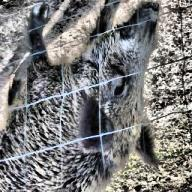boar: (0, 1, 161, 192)
